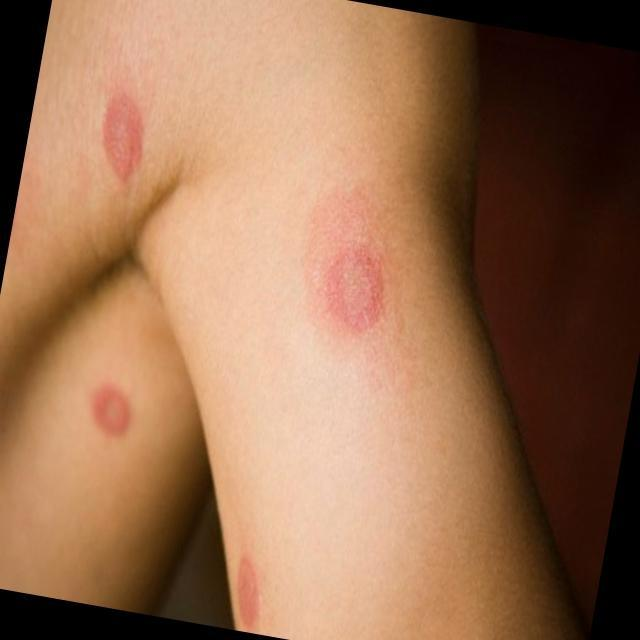Eczema: (317, 223, 390, 322), (94, 89, 156, 191), (90, 380, 142, 445), (232, 558, 264, 632)
